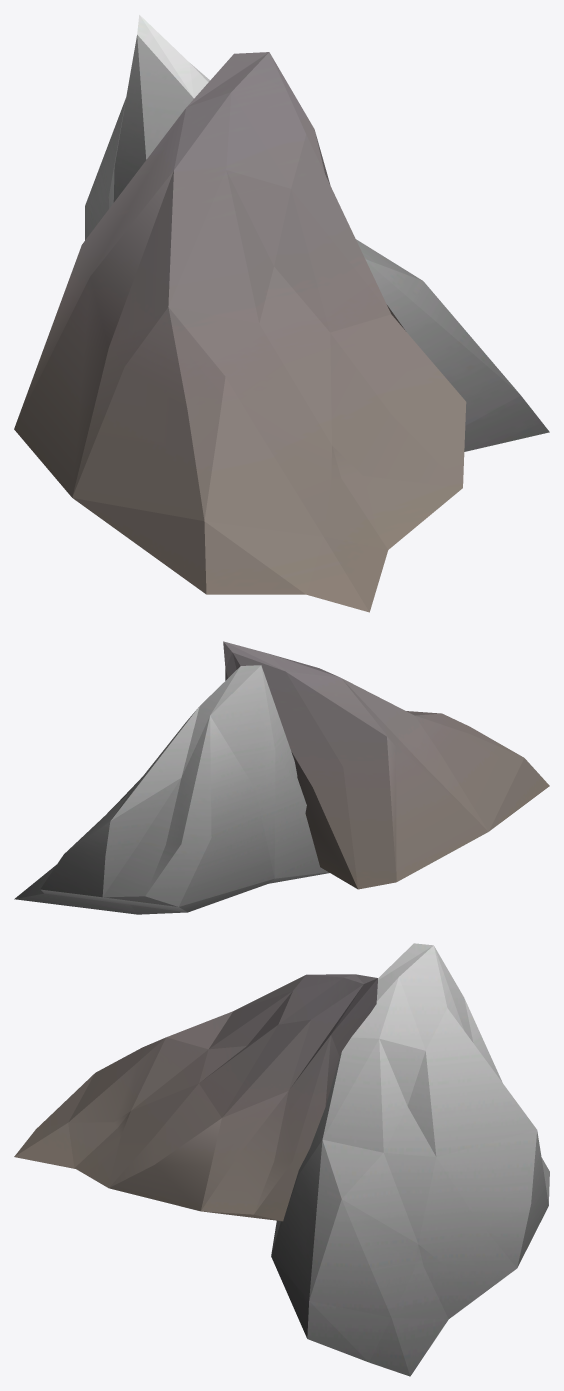
3 views of the same model, one above another, from view 1: azimuth 30°, elevation 25°; view 2: azimuth 150°, elevation 25°; view 3: azimuth 270°, elevation 25° (orthographic). The views are drawn at different scales.
Parts seen in each view (by area): view 1: DoubleRockShape; view 2: DoubleRockShape; view 3: DoubleRockShape.
Boxes of the visible parts, x1=… form: DoubleRockShape: x1=14, y1=15, x2=549, y2=612; DoubleRockShape: x1=14, y1=641, x2=549, y2=914; DoubleRockShape: x1=14, y1=943, x2=549, y2=1376.
Size of the model in its own units: 201 by 150 by 234.
1 material, 1 textured.
